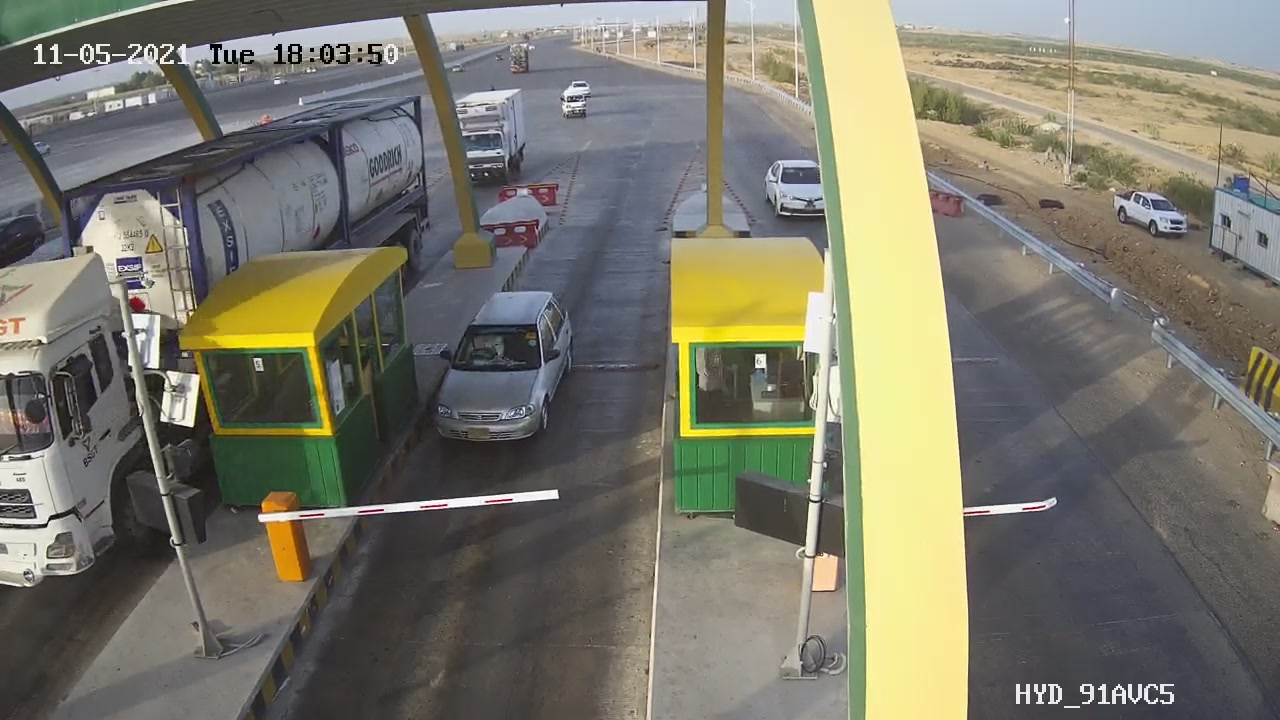F1: (406, 269, 600, 465)
